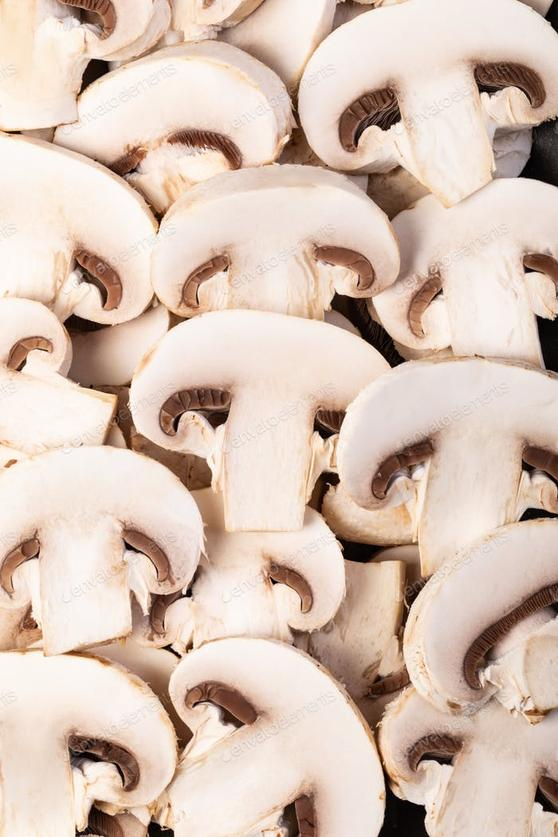champignon: (338, 348, 558, 583), (4, 440, 196, 645), (151, 164, 398, 316)
